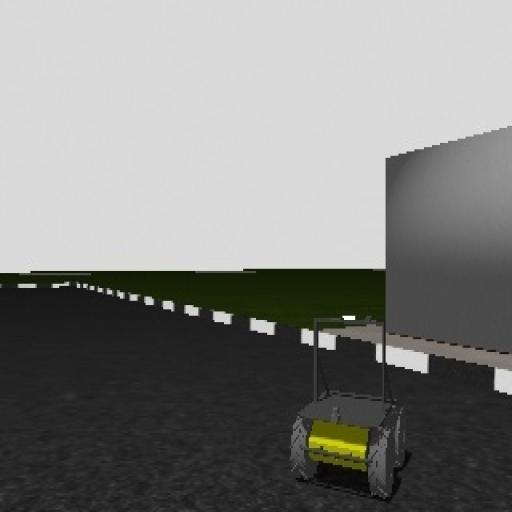huskya200: (274, 291, 436, 496)
